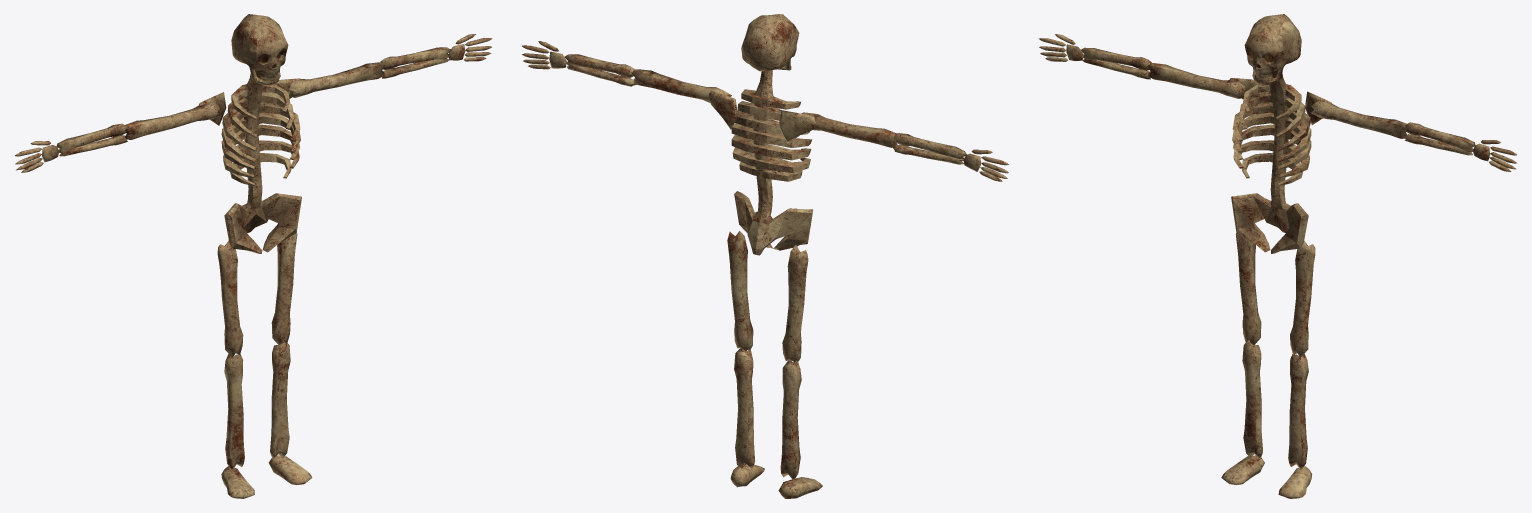
File: skeleton.glb
3 views of the same model, side by side, from view 1: azimuth 30°, elevation 25°; view 2: azimuth 150°, elevation 25°; view 3: azimuth 330°, elevation 25° (orthographic).
Visible parts, largest first — view 1: Ribs, Skeleton, Head, L_Lowerleg, R_Lowerleg, R_Upperleg, L_Upperleg, L_Upperarm, R_Upperarm, R_Forearm, L_Forearm, L_Foot (+1 smaller); view 2: Ribs, Skeleton, Head, L_Upperleg, L_Lowerleg, R_Lowerleg, R_Upperleg, R_Forearm, R_Upperarm, L_Upperarm, L_Forearm, R_Shoulder (+2 smaller); view 3: Ribs, Skeleton, Head, R_Lowerleg, L_Lowerleg, L_Upperleg, R_Upperleg, R_Upperarm, L_Upperarm, L_Forearm, R_Forearm, R_Foot (+1 smaller).
Boxes of the visible parts, <box> form: Ribs: <box>221,84,300,186</box>; Skeleton: <box>224,70,301,253</box>; Head: <box>231,14,288,77</box>; L_Lowerleg: <box>270,342,290,459</box>; R_Lowerleg: <box>224,354,244,470</box>; R_Upperleg: <box>217,240,243,357</box>; L_Upperleg: <box>271,233,297,345</box>; L_Upperarm: <box>287,62,385,97</box>; R_Upperarm: <box>125,102,221,139</box>; R_Forearm: <box>56,123,127,156</box>; L_Forearm: <box>380,47,451,78</box>; L_Foot: <box>268,455,312,484</box>; Ribs: <box>731,89,812,181</box>; Skeleton: <box>734,70,813,255</box>; Head: <box>741,14,799,71</box>; L_Upperleg: <box>727,231,753,350</box>; L_Lowerleg: <box>734,348,755,469</box>; R_Lowerleg: <box>780,360,801,480</box>; R_Upperleg: <box>782,245,808,361</box>; R_Forearm: <box>892,133,966,164</box>; R_Upperarm: <box>801,112,897,147</box>; L_Upperarm: <box>632,69,731,102</box>; L_Forearm: <box>564,54,636,86</box>; R_Shoulder: <box>778,110,815,143</box>; Ribs: <box>1232,84,1311,186</box>; Skeleton: <box>1231,70,1308,253</box>; Head: <box>1244,14,1301,77</box>; R_Lowerleg: <box>1242,341,1262,459</box>; L_Lowerleg: <box>1288,354,1308,470</box>; L_Upperleg: <box>1290,240,1315,357</box>; R_Upperleg: <box>1235,233,1261,344</box>; R_Upperarm: <box>1147,63,1245,98</box>; L_Upperarm: <box>1311,101,1407,138</box>; L_Forearm: <box>1404,122,1475,155</box>; R_Forearm: <box>1080,47,1151,79</box>; R_Foot: <box>1221,455,1264,484</box>.
Bounding box in the file's own units: 32.33 × 30.04 × 3.8.
1 material, 1 textured.
